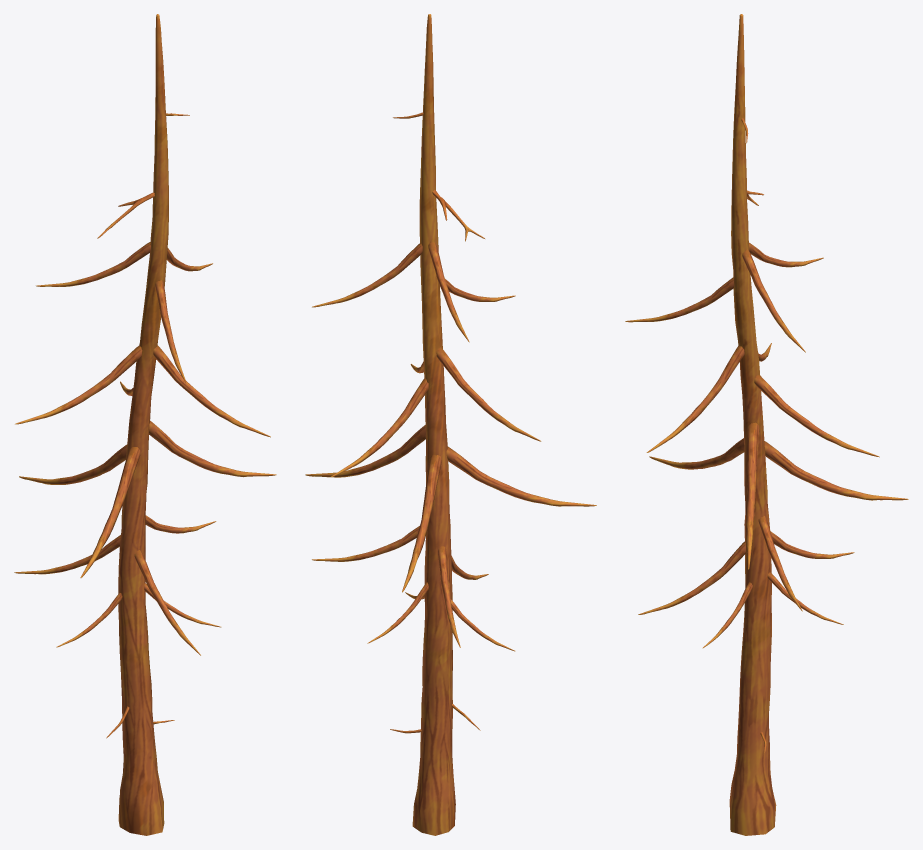
Rendered from tree_2_hb.glb.
The picture shows the model from 3 angles, left to right: view 1: azimuth 30°, elevation 25°; view 2: azimuth 150°, elevation 25°; view 3: azimuth 270°, elevation 25°; orthographic projection.
Parts seen in each view (by area): view 1: hit_box2; view 2: hit_box2; view 3: hit_box2.
Part boxes in pixels (left/top/right/bottom): hit_box2: left=14, top=14, right=276, bottom=835; hit_box2: left=305, top=14, right=596, bottom=835; hit_box2: left=625, top=14, right=908, bottom=835.
Size of the model in its own units: 4.61 by 14.33 by 4.51.
1 material, 1 textured.
